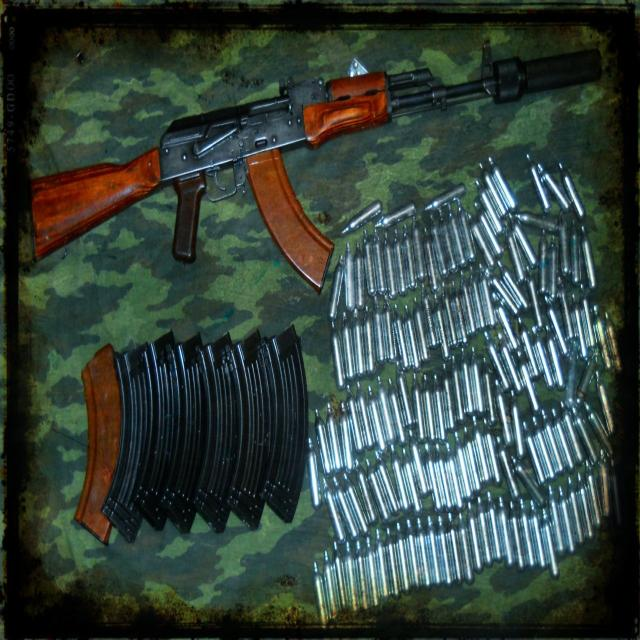firearm: (26, 32, 604, 296)
